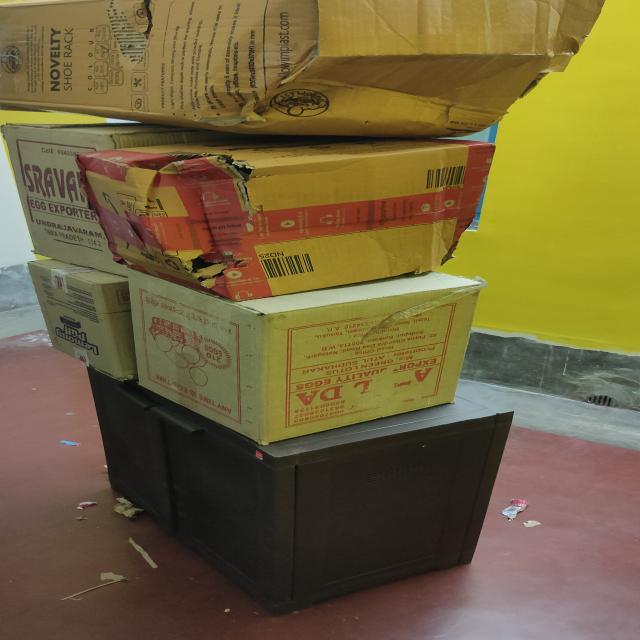squeeze: (79, 115, 374, 325)
